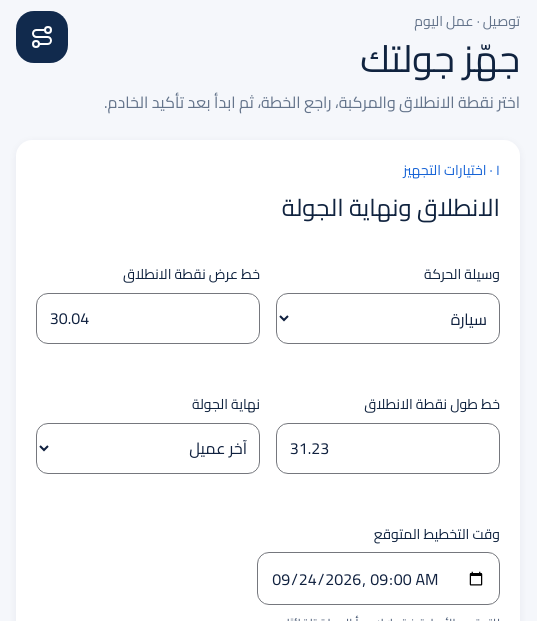
connected preparation flow › rejects blank origin coordinates before sending a planning command
This screenshot has width=537, height=621.
Step 1. Clear the field labelled "خط عرض نقطة الانطلاق" → (148, 318), box [36, 293, 260, 344]
(page scrolled)
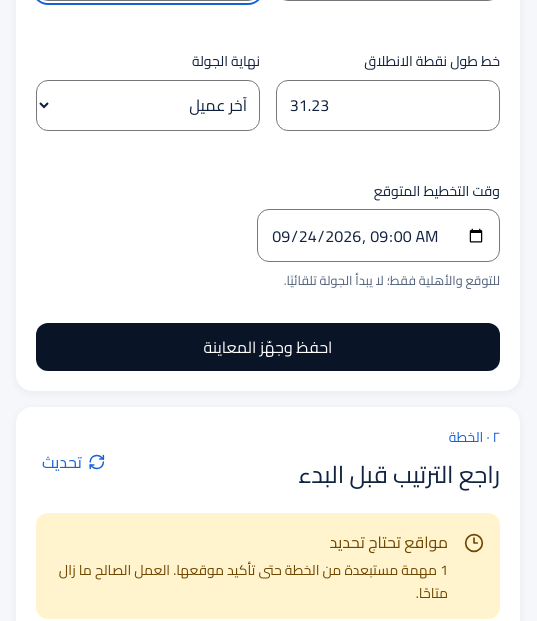
Step 2. Click the button "احفظ وجهّز المعاينة" → (268, 347), box [36, 323, 500, 371]
(page scrolled)
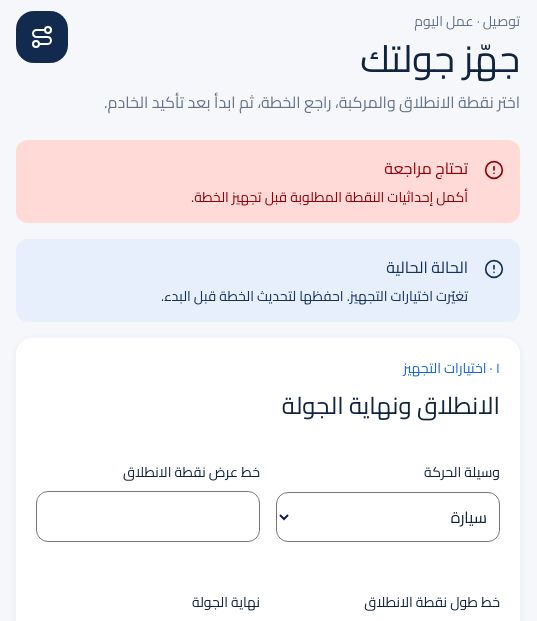
Now the text "أكمل إحداثيات النقطة المطلوبة قبل تجهيز الخطة." is shown, box [191, 184, 468, 210]
